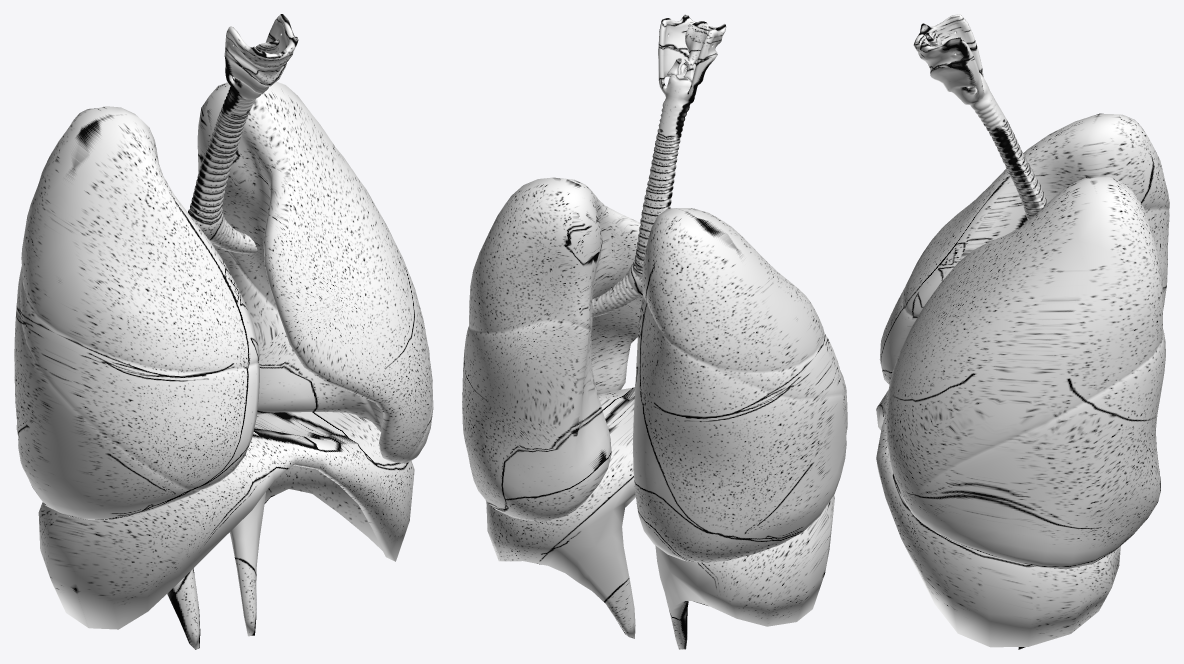
File: respiratory_ar.fbx
3 views of the same model, side by side, from view 1: azimuth 30°, elevation 25°; view 2: azimuth 150°, elevation 25°; view 3: azimuth 270°, elevation 25° (orthographic). The views are drawn at different scales.
Parts seen in each view (by area): view 1: Respiratory_Diaphragm1; view 2: Respiratory_Diaphragm1; view 3: Respiratory_Diaphragm1.
Part boxes in pixels (x1,y1,x2,y2): Respiratory_Diaphragm1: (14, 14, 433, 649); Respiratory_Diaphragm1: (462, 14, 847, 649); Respiratory_Diaphragm1: (876, 14, 1169, 649).
Bounding box in the file's own units: 6.48 × 10.95 × 4.77.
Materials: 1 (1 with a texture image).
